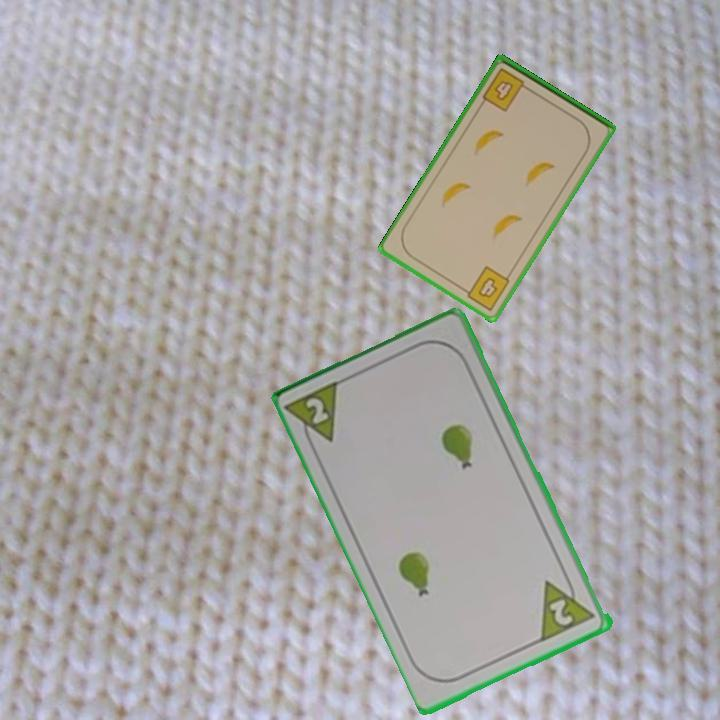2p: (284, 376, 346, 455), (537, 569, 599, 644)
4b: (458, 262, 513, 314), (479, 65, 534, 115)
